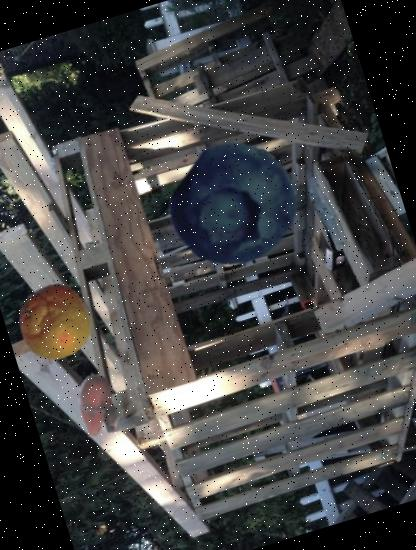Banana: (58, 364, 138, 444)
Huckleberry: (156, 126, 315, 285)
Mandarine: (8, 275, 102, 369)
